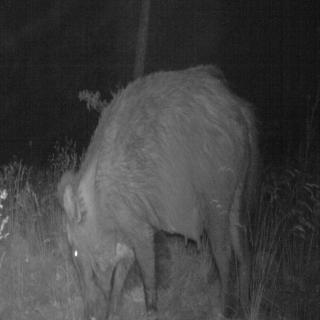Pig: (38, 48, 269, 320)
